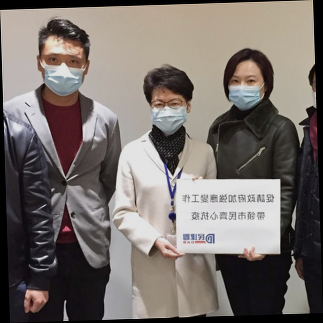with_mask: (39, 50, 88, 97), (150, 94, 188, 134), (226, 73, 265, 109)
